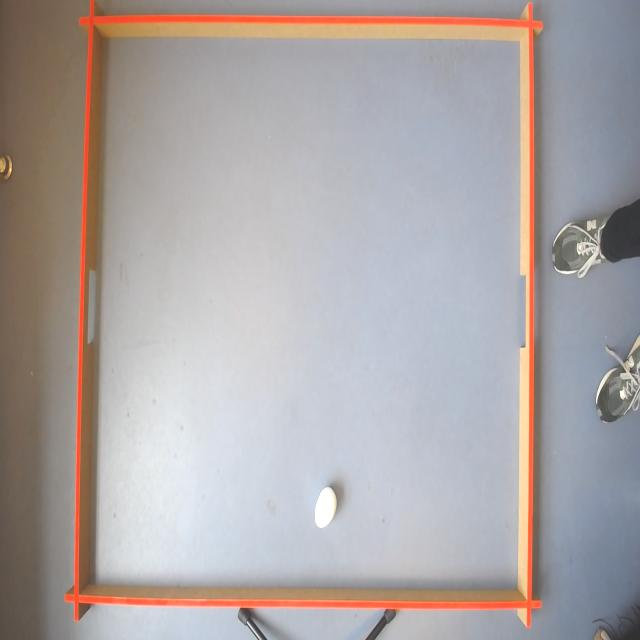egg: (314, 486, 338, 532)
